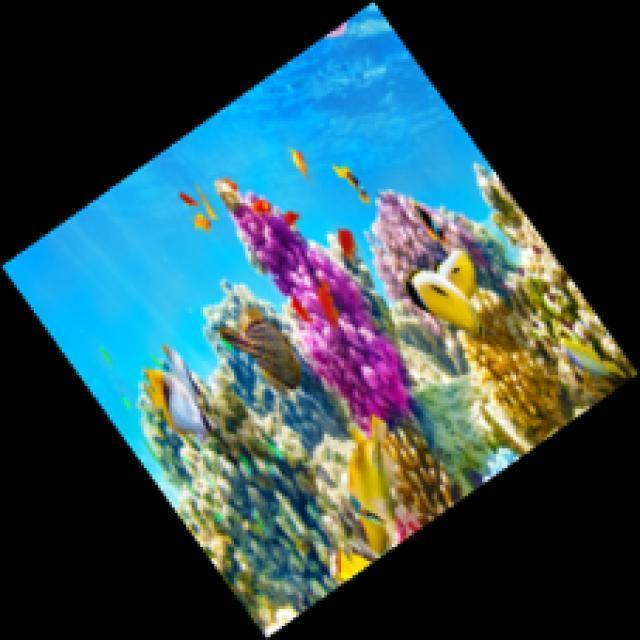Healthy: (233, 193, 410, 429), (453, 291, 571, 441), (371, 194, 489, 328), (379, 431, 462, 524), (396, 515, 425, 548)
